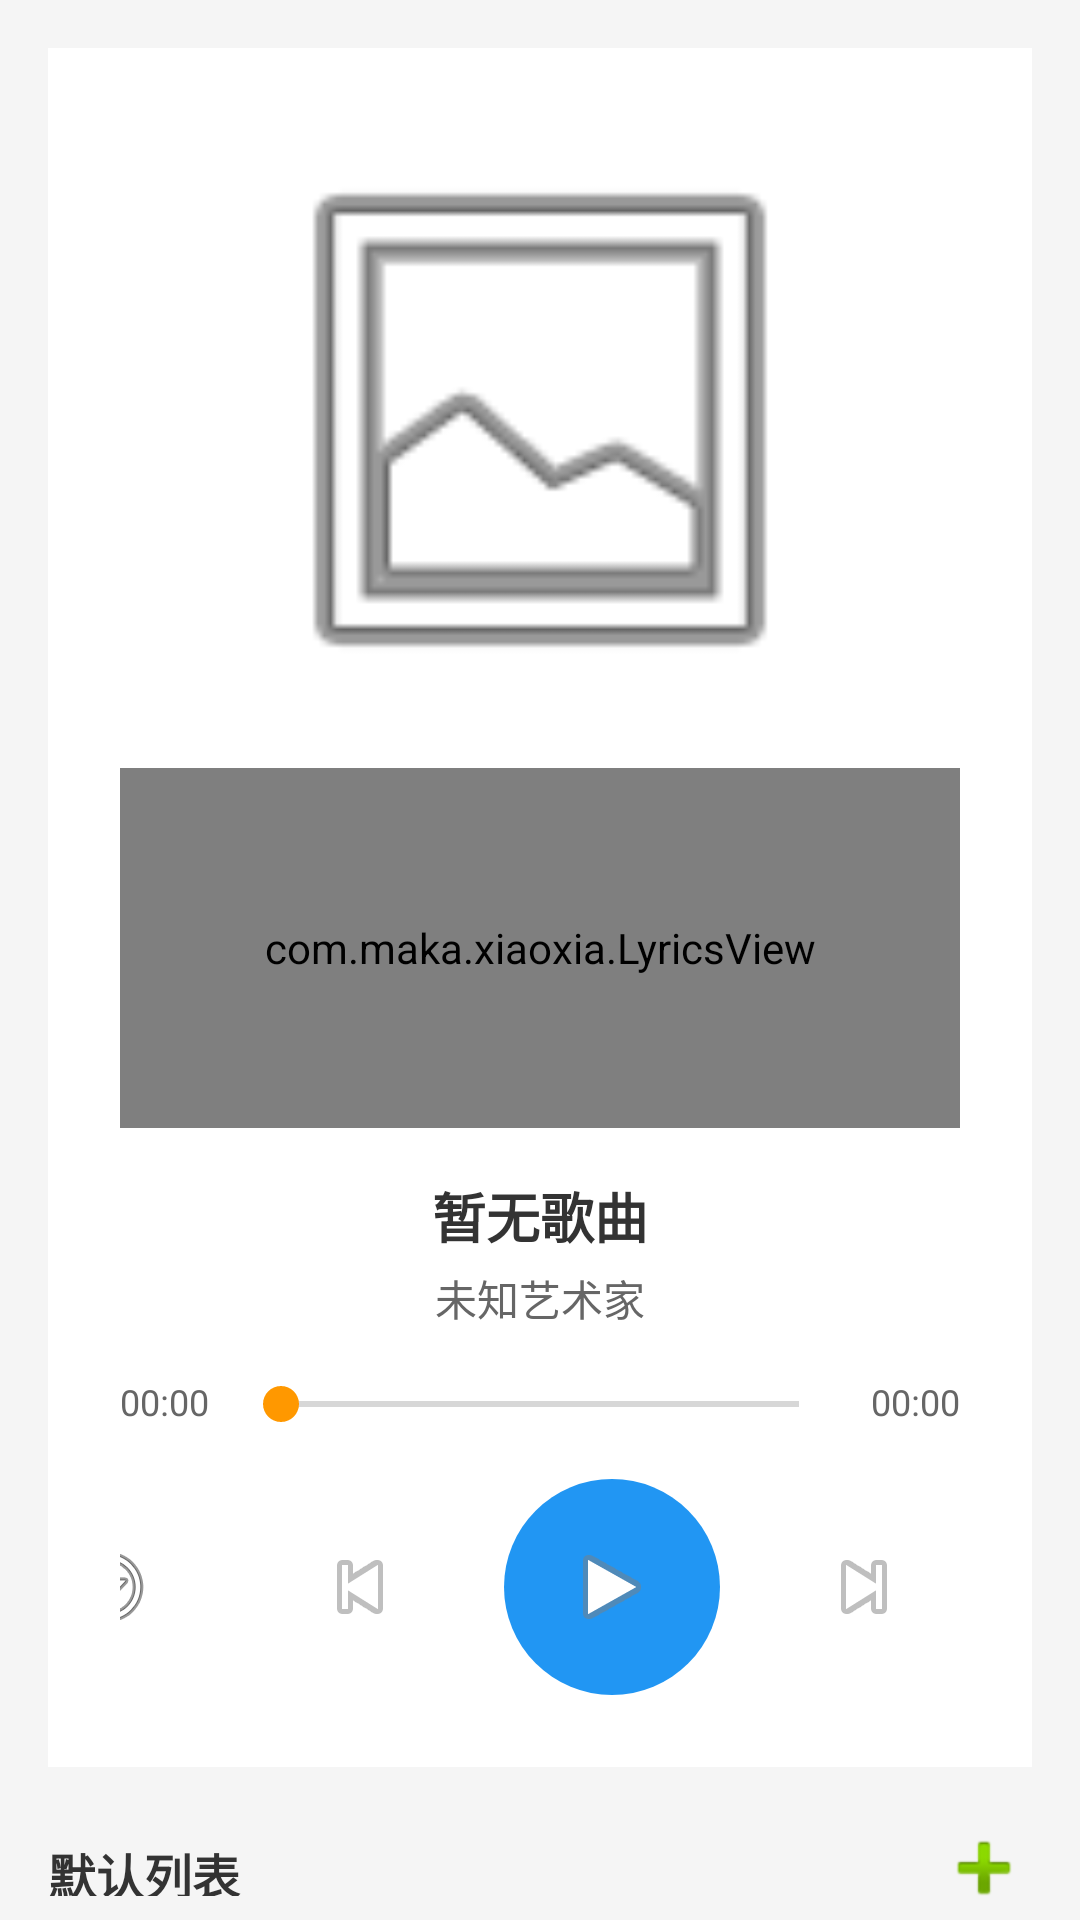

Named icons in this screenshot (1080×1920) and their centers, point (x, y):
上一首: point (360, 1587)
下一首: point (864, 1587)
播放/暂停: point (612, 1587)
